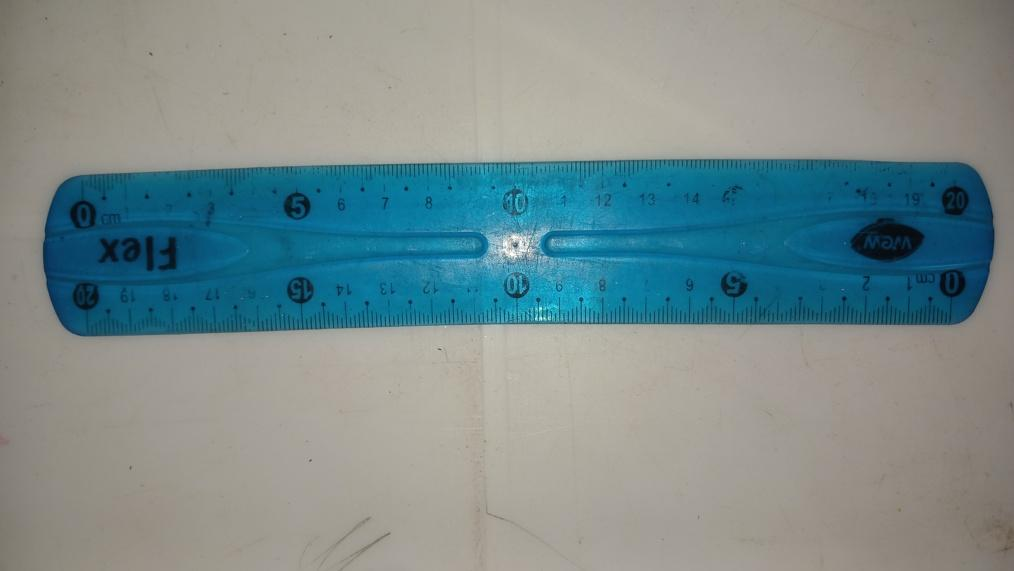Ruler: (40, 161, 997, 343)
